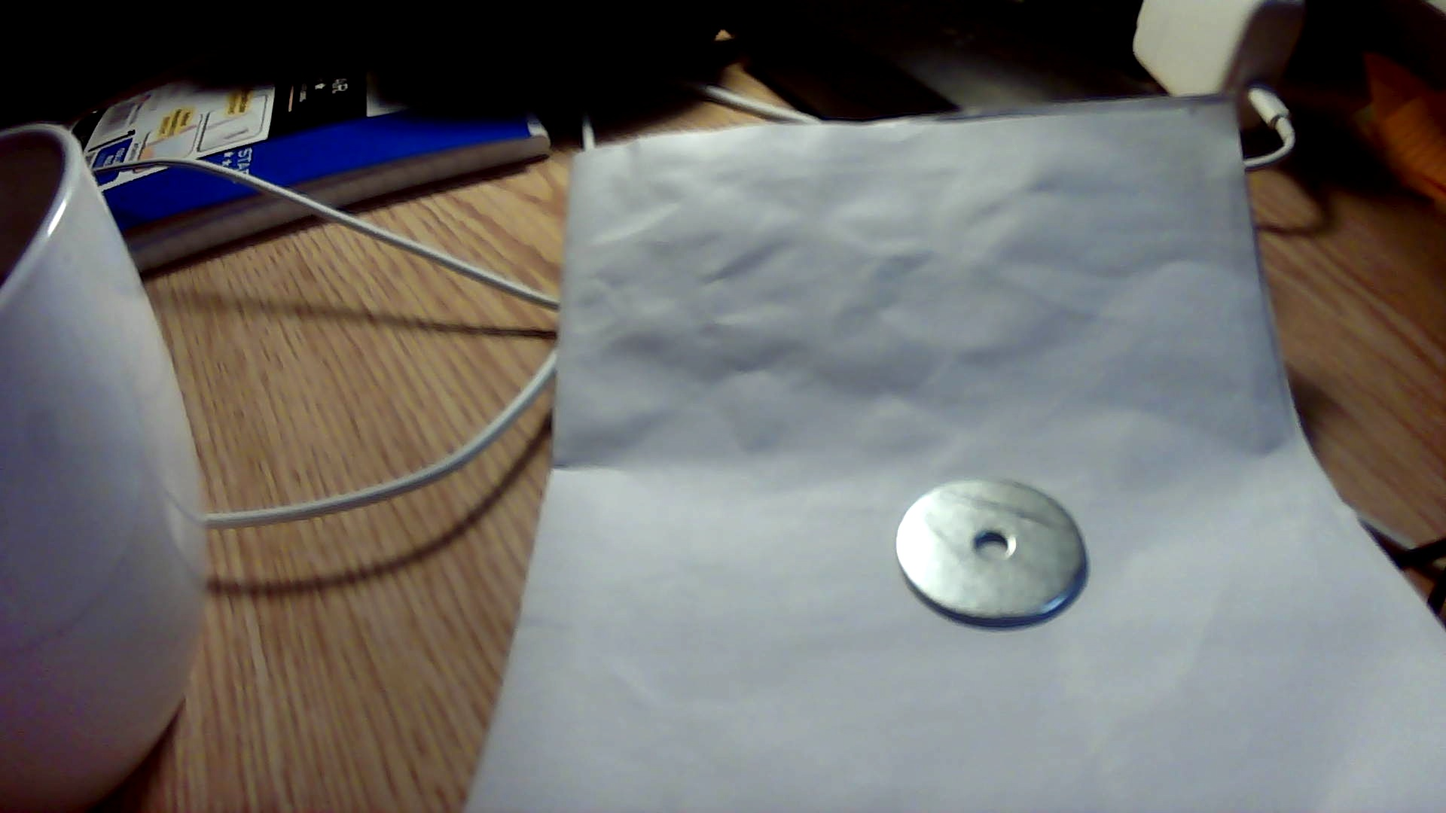DetectiveWashers: (917, 486, 1079, 625)
